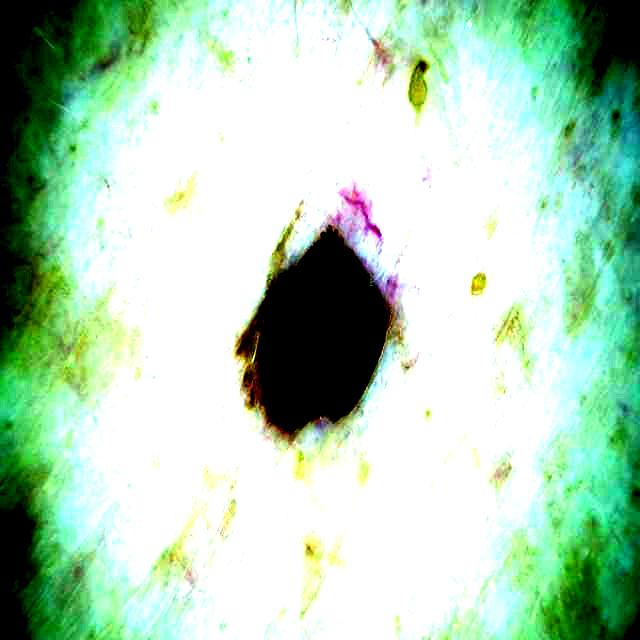BKL: (241, 228, 389, 426)
